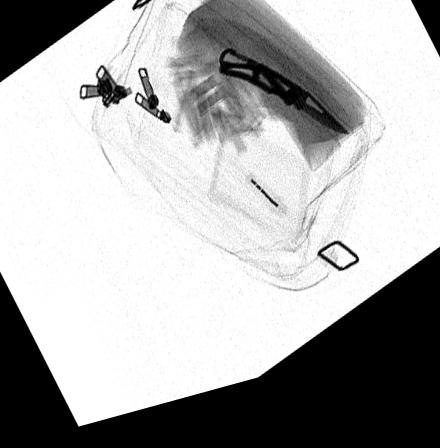Knife: (218, 58, 351, 153)
